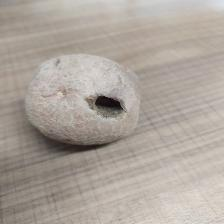Damaged potato: (21, 52, 147, 150)
